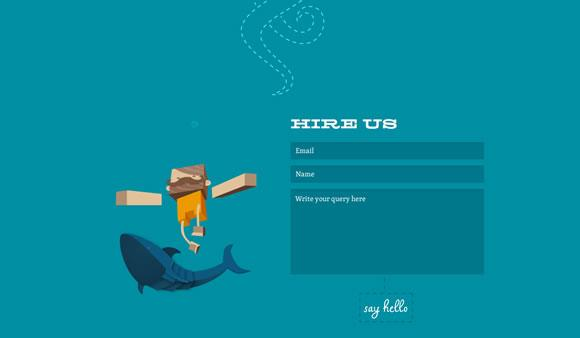button: (358, 292, 416, 324)
field: (290, 189, 486, 274), (290, 165, 484, 184), (290, 142, 485, 160)
